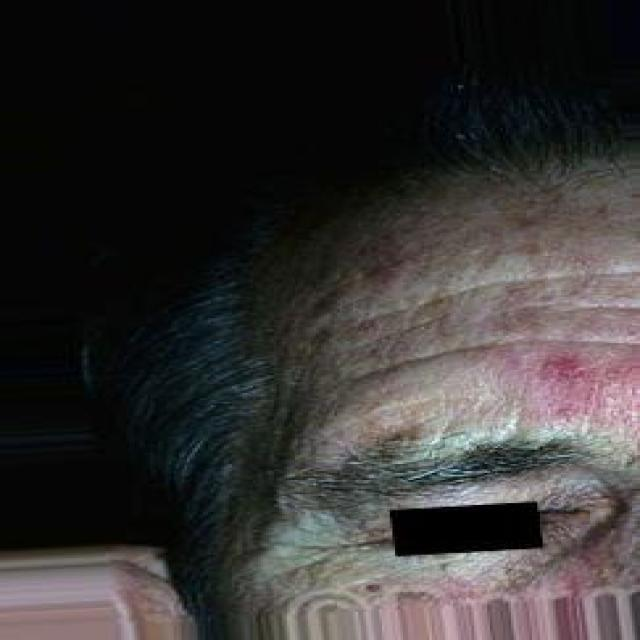Rosacea: (491, 348, 636, 430)
